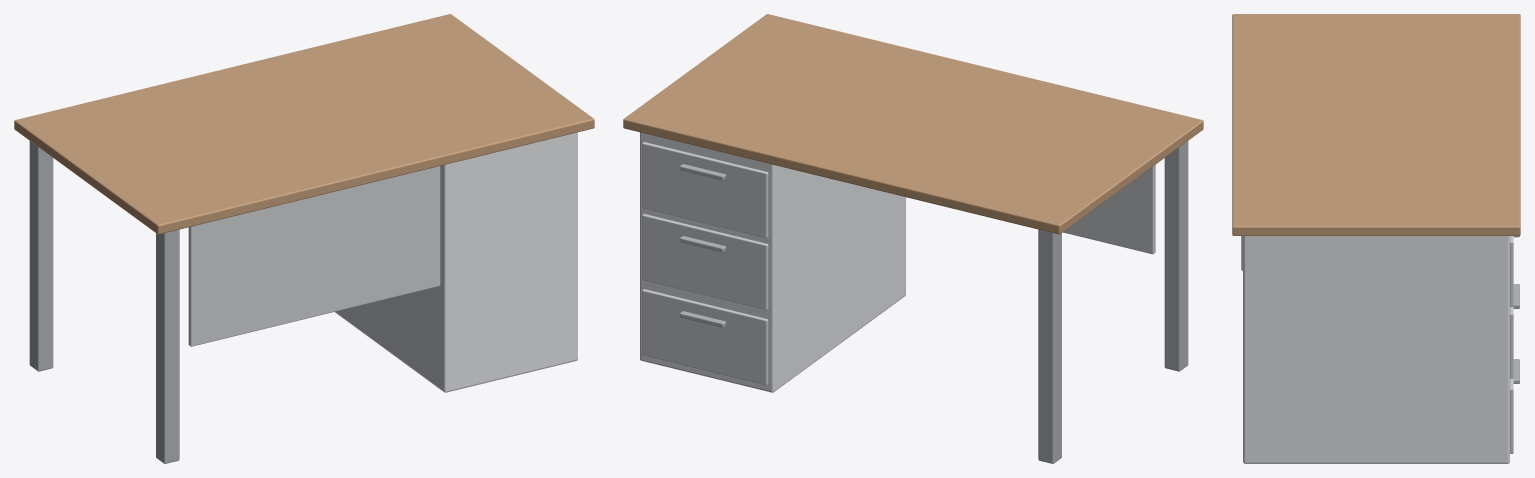
The model's file is workplace.glb.
3 renders of one model, left to right at view 1: azimuth 30°, elevation 25°; view 2: azimuth 150°, elevation 25°; view 3: azimuth 270°, elevation 25°, orthographic.
Parts seen in each view (by area): view 1: body; view 2: body; view 3: body.
Boxes of the visible parts, bbox=[...] form: body: bbox=[14, 14, 594, 463]; body: bbox=[623, 14, 1203, 463]; body: bbox=[1232, 14, 1520, 463].
Bounding box in the file's own units: 1.4 × 0.75 × 0.8.
